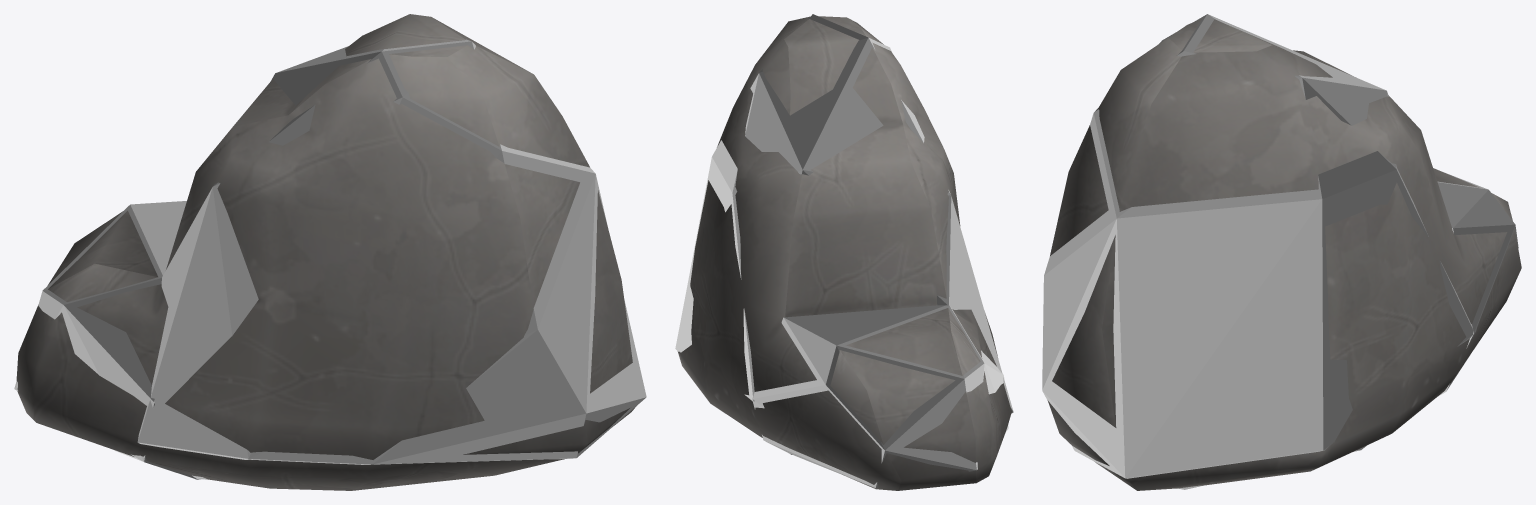
Rendered from SM_Stones01_3.fbx.
3 renders of one model, left to right at view 1: azimuth 30°, elevation 25°; view 2: azimuth 150°, elevation 25°; view 3: azimuth 270°, elevation 25°, orthographic. The views are drawn at different scales.
Parts seen in each view (by area): view 1: SM_Stones01_3, SM_Stones01_3_ConvexHulls; view 2: SM_Stones01_3, SM_Stones01_3_ConvexHulls; view 3: SM_Stones01_3, SM_Stones01_3_ConvexHulls.
Part boxes in pixels (bbox=[...]): SM_Stones01_3: bbox=[16, 14, 636, 490]; SM_Stones01_3_ConvexHulls: bbox=[14, 39, 646, 479]; SM_Stones01_3: bbox=[677, 16, 1011, 490]; SM_Stones01_3_ConvexHulls: bbox=[675, 14, 1013, 488]; SM_Stones01_3: bbox=[1047, 18, 1521, 490]; SM_Stones01_3_ConvexHulls: bbox=[1042, 14, 1518, 489].
Bounding box in the file's own units: 213 × 193 × 181.
2 materials, 1 textured.
